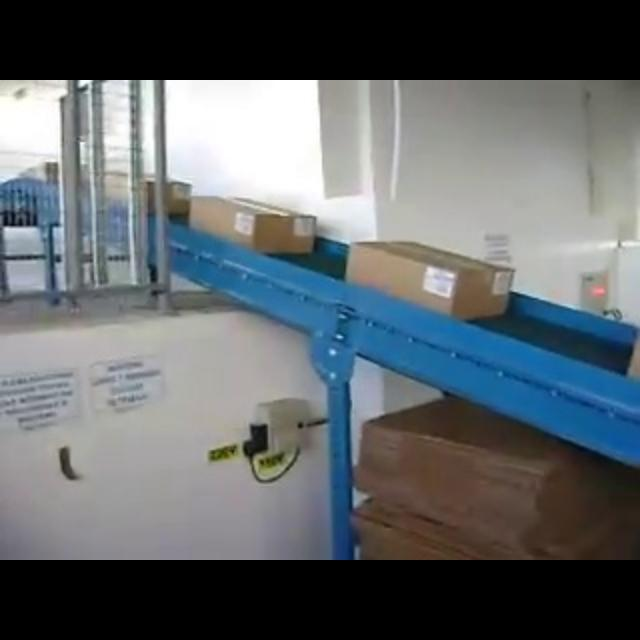Box: (344, 236, 514, 330), (186, 192, 320, 258), (104, 170, 192, 220)
